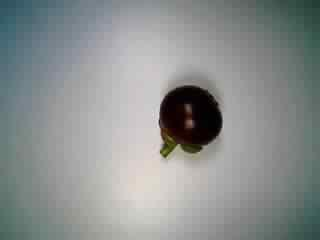mangosteen: (147, 83, 231, 164)
